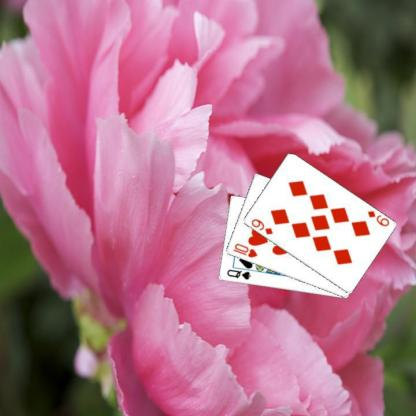10H: (231, 241, 258, 259)
9D: (248, 216, 274, 236), (365, 208, 390, 228)
QS: (224, 267, 252, 281)
